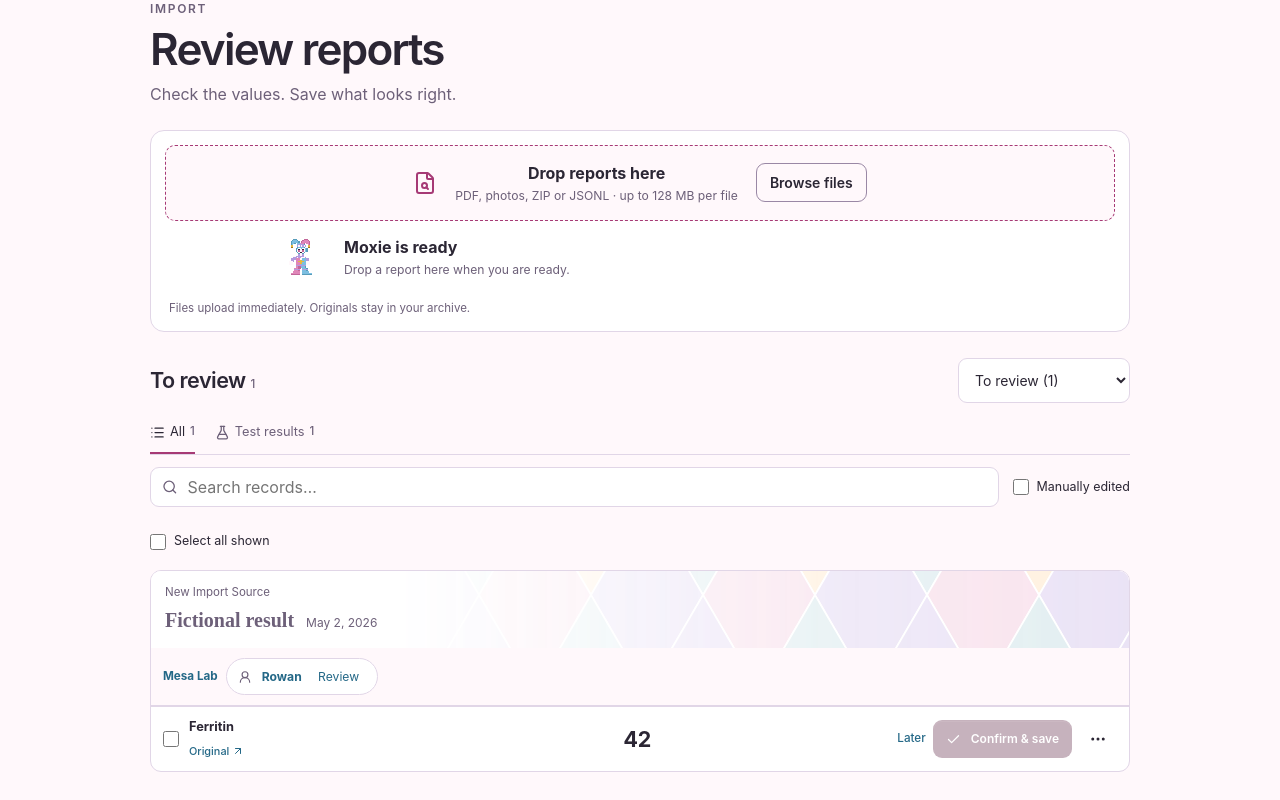
Scenario: closes a cached identity sheet when refreshed state says confirmation is already retained
Click the button with aria-label "Review person for" at (302,677), box x1=226 y1=658 x2=378 y2=695
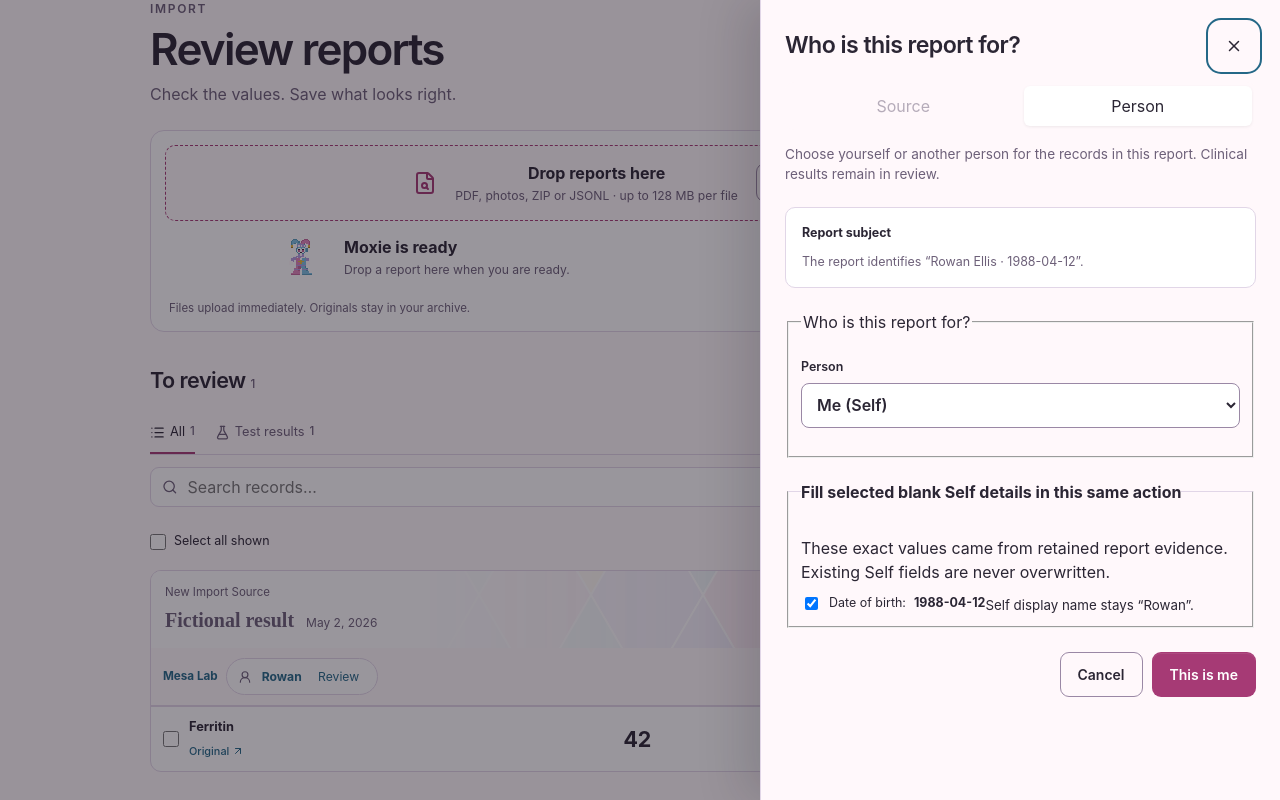
Expected: the dialog is shown, x1=760 y1=0 x2=1279 y2=799
